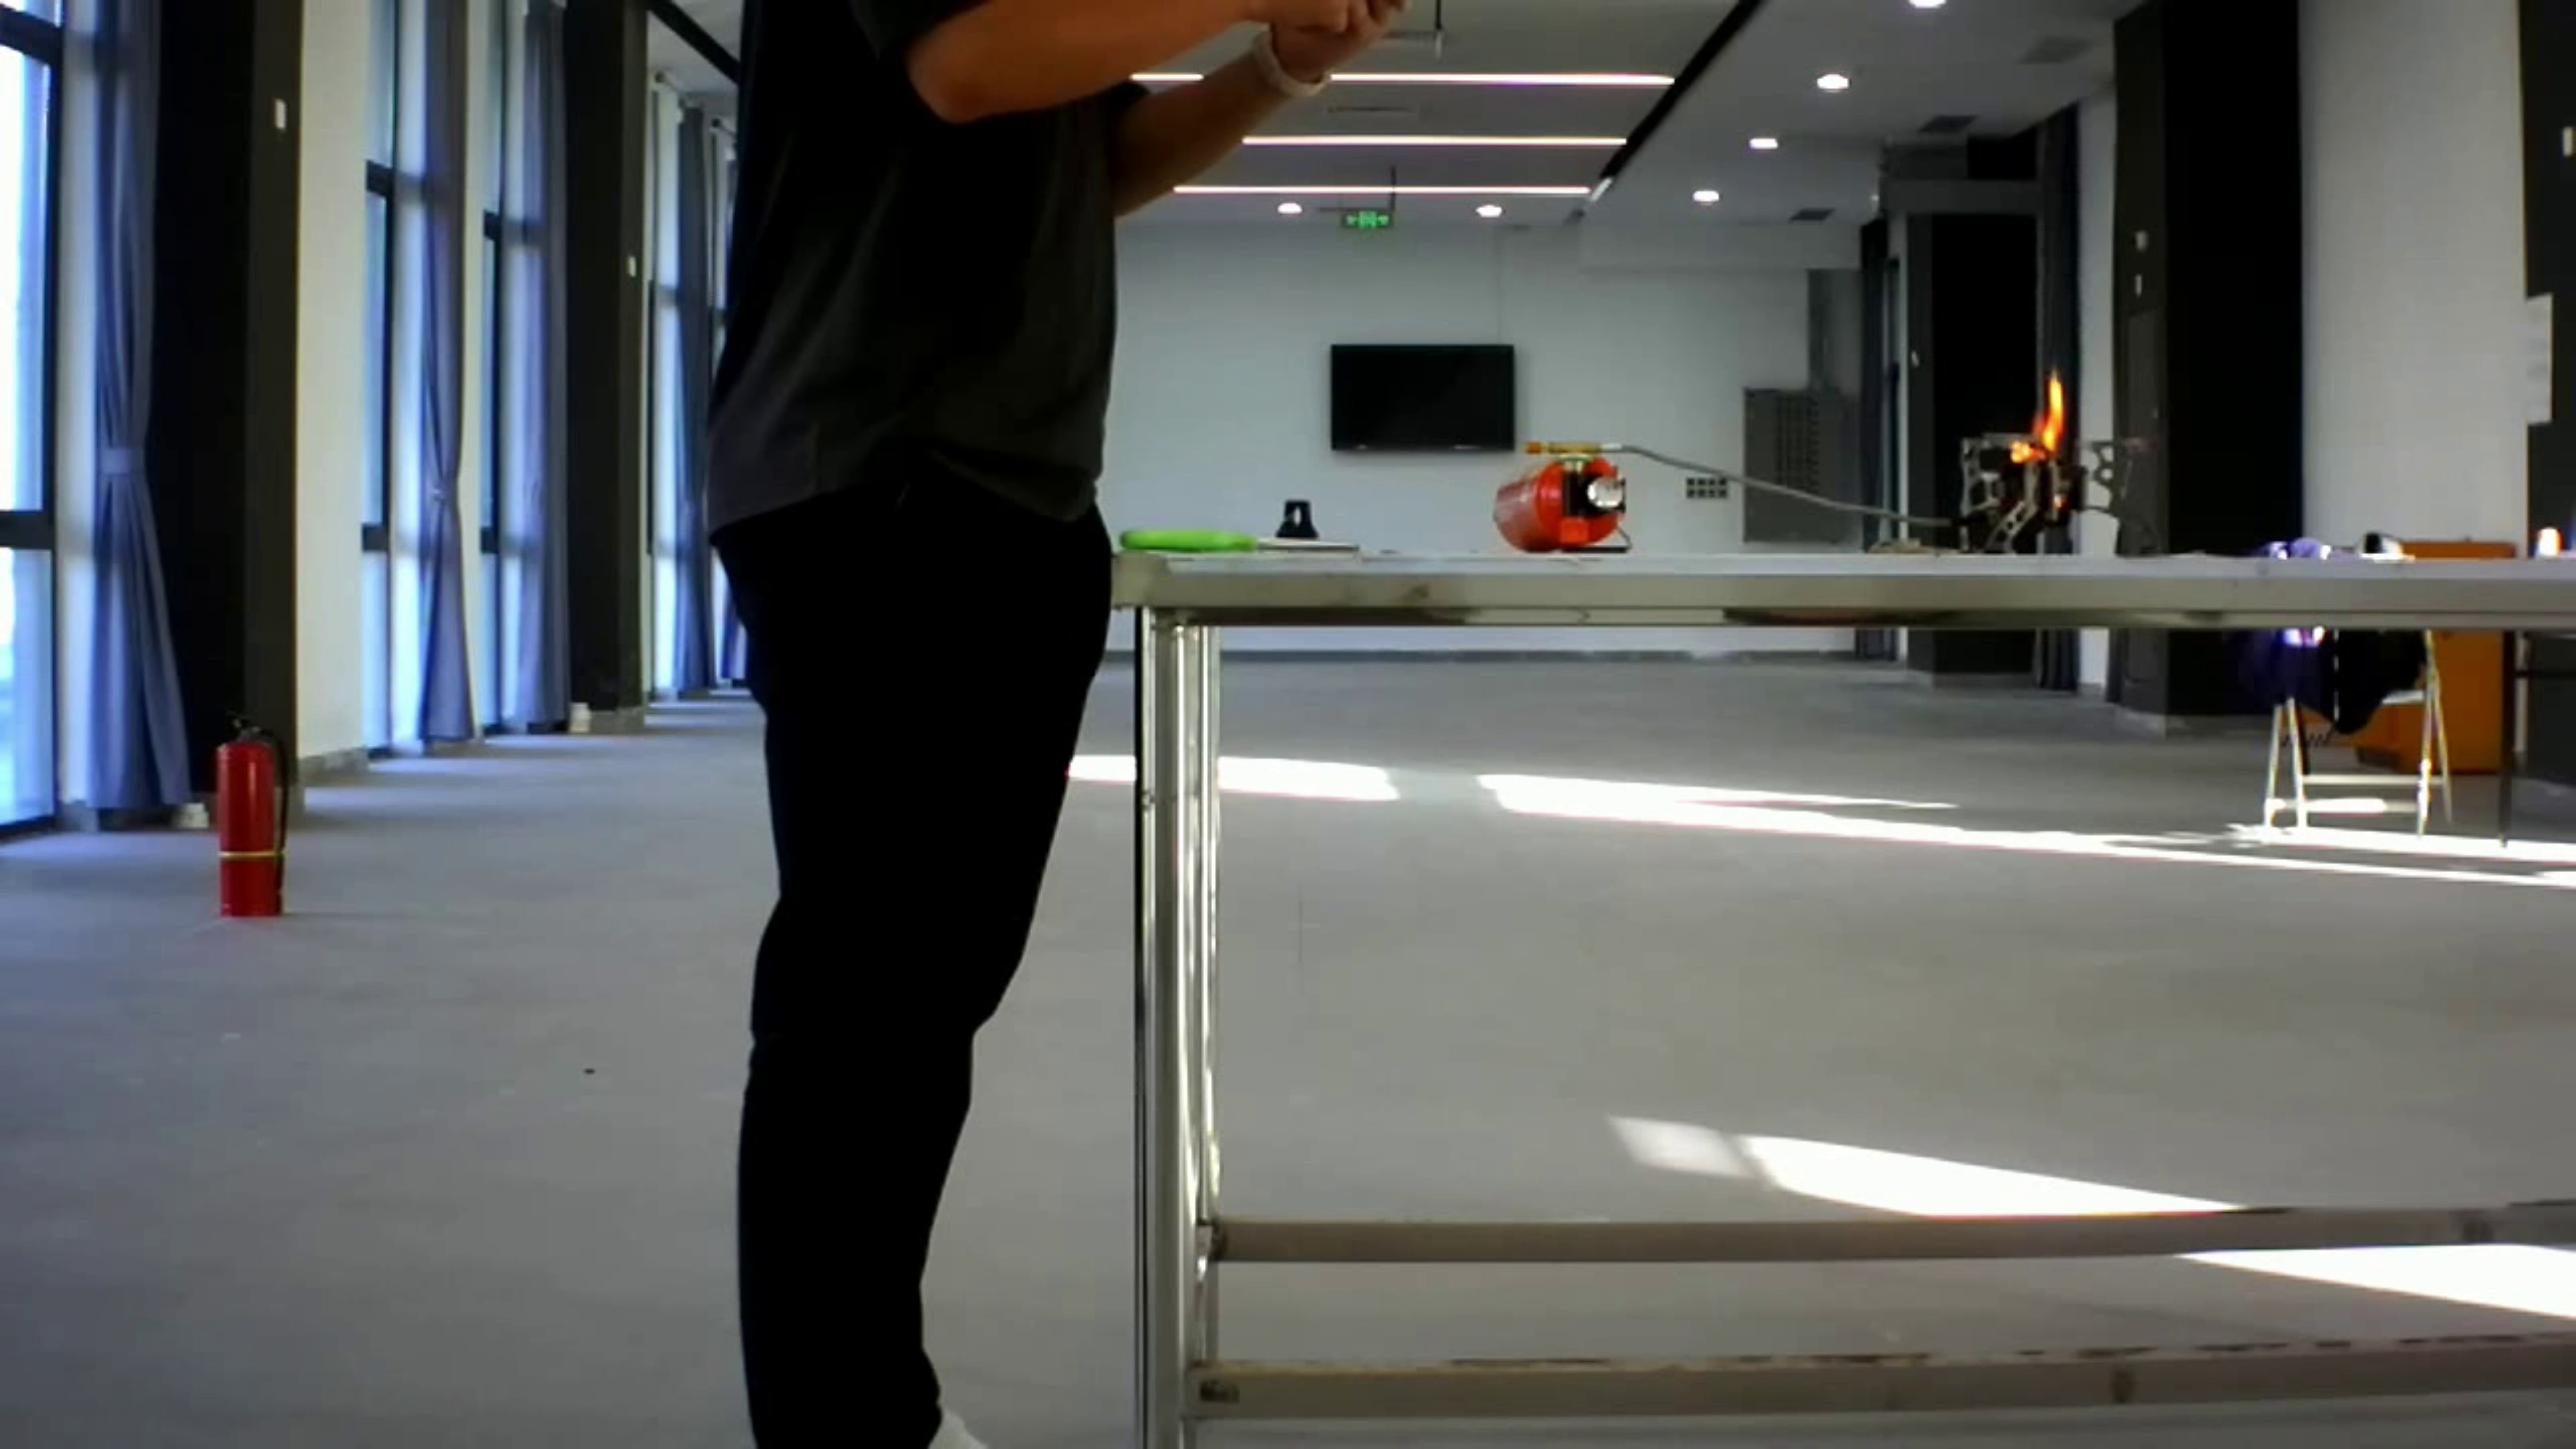Fire: (1989, 356, 2077, 481)
